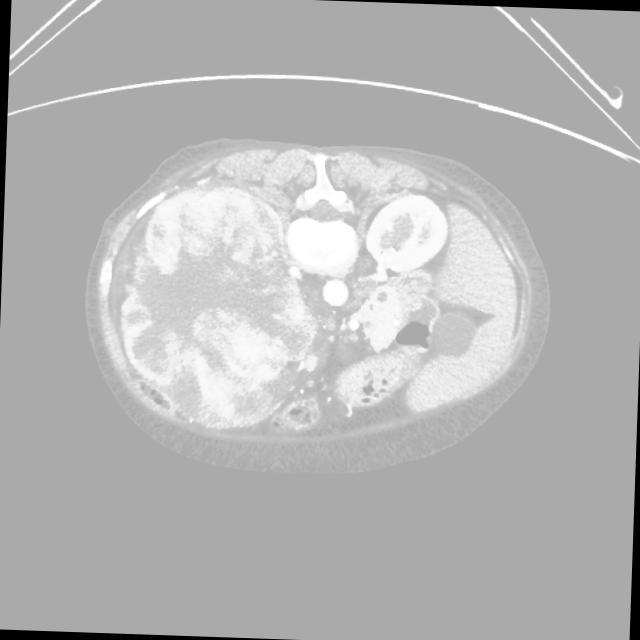TUMOR: (173, 174, 515, 419)
